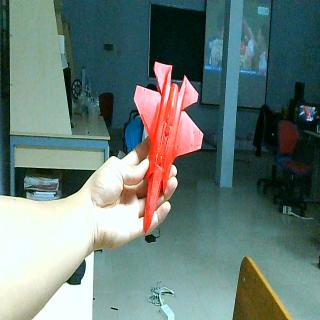Jet: (132, 61, 204, 235)
